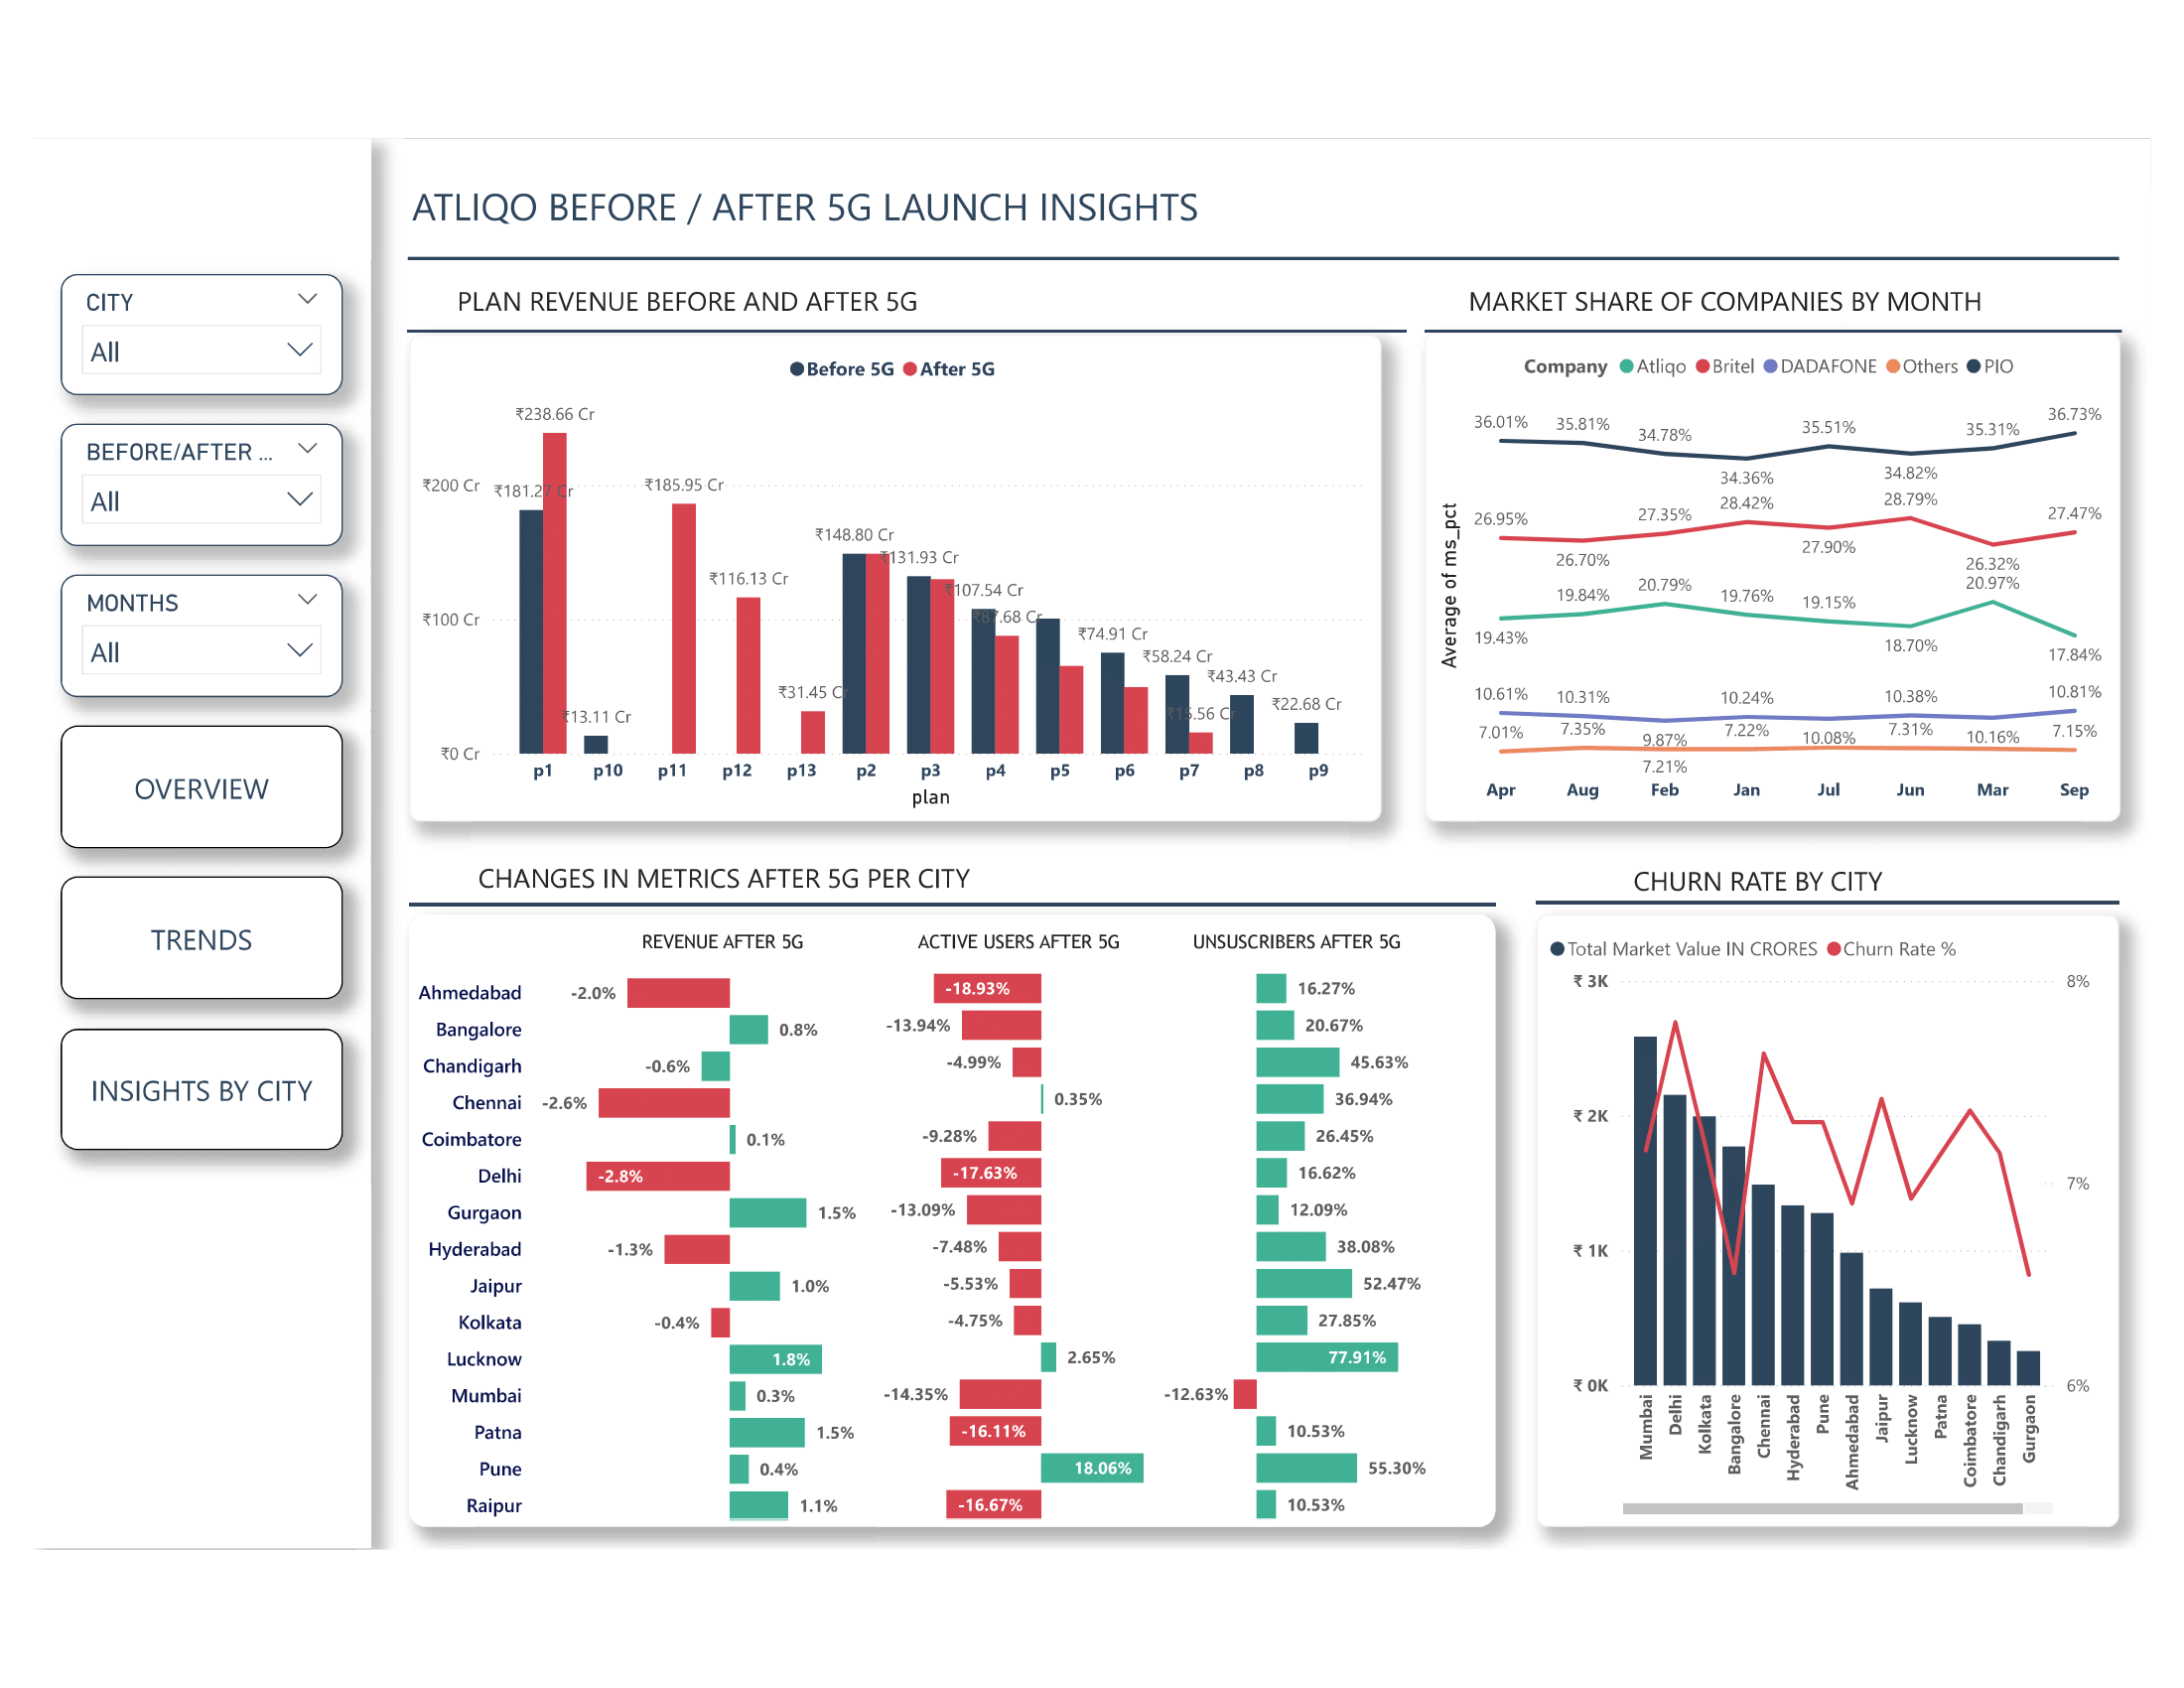

Layout of this report page (visuals, bound fields, positions):
{"tool":"powerbi","page":{"name":"OVERVIEW","canvas":[1500,1000],"ordinal":0},"visuals":[{"type":"shape","box":[0,0,238.8,998.8],"z":0},{"type":"areaChart","fields":{"Y":["Key Measures.Churn Rate %"],"Category":["dim_date.before/after_5g","dim_date.date.Variation.Date Hierarchy.Month"]},"box":[1056.2,640.3,421.4,344.1],"z":1000},{"type":"lineChart","fields":{"Category":["dim_date.time_period"],"Y":["Key Measures.Active Users Before 5G","Key Measures.Active Users After 5G"]},"box":[264.7,716.5,389.9,267.6],"z":2000},{"type":"lineChart","fields":{"Category":["dim_date.time_period"],"Y":["Key Measures.Atliqo MS% Before 5G","Key Measures.Atliqo MS % After 5G"]},"box":[662.4,428.7,371.7,277.9],"z":3000},{"type":"lineChart","fields":{"Category":["dim_date.time_period"],"Y":["Key Measures.ARPU Before 5G","Key Measures.ARPU After 5G"]},"box":[661.9,716.5,371.2,267.6],"z":4000},{"type":"textbox","box":[263.2,23.8,631.8,47.6],"z":5000},{"type":"shape","box":[264.9,73,1212.6,23.8],"z":6000},{"type":"shape","box":[265.3,410.4,758.8,35.4],"z":7000},{"type":"shape","box":[1055,409.2,426.7,35.8],"z":8000},{"type":"multiRowCard","fields":{"Values":["Key Measures.% Change in Unsubscribers"]},"box":[1052.9,453.8,241.4,93.9],"z":9000},{"type":"multiRowCard","fields":{"Values":["Key Measures.Churn Rate %"]},"box":[1310,453.8,171.2,93.8],"z":10000},{"type":"tableEx","fields":{"Values":["Key Measures.Prefix Active Users","Key Measures.% Change in Active Users","Key Measures.Suffix Active Users"]},"box":[264.9,95.1,686.1,113.8],"z":11000},{"type":"lineChart","fields":{"Y":["Key Measures.Revenue Before 5g","Key Measures.Revenue After 5G"],"Category":["dim_date.time_period"]},"box":[265,428.3,391.7,276.7],"z":12000},{"type":"tableEx","fields":{"Values":["Key Measures.Prefix Revenue","Key Measures.% Change in Revenue"]},"box":[974.9,95.1,506.1,113.8],"z":13000},{"type":"tableEx","fields":{"Values":["Key Measures.% Change in ARPU","Key Measures.Suffix ARPU"]},"box":[263.2,229.3,502.7,112.1],"z":14000},{"type":"tableEx","fields":{"Values":["Key Measures.Prefix Market Share","Key Measures.% Change in Atlico MS"]},"box":[791.4,229.3,689.5,112.1],"z":15000},{"type":"textbox","box":[264.9,387.2,711.6,37.4],"z":16000},{"type":"textbox","box":[1056.4,383.8,421.2,40.8],"z":17000},{"type":"image","box":[264.3,382.1,42.9,47.6],"z":19000},{"type":"image","box":[1054.7,382.6,50,45.3],"z":20000},{"type":"shape","box":[307.3,690,717.6,35],"z":21000},{"type":"shape","box":[640.3,467.4,42.3,500.5],"z":22000},{"type":"slicer","fields":{"Values":["dim_cities.city_name"]},"box":[18.9,95.7,200.6,86.5],"z":23000},{"type":"slicer","fields":{"Values":["dim_date.before/after_5g"]},"box":[18.9,202.5,200.6,86.5],"z":24000},{"type":"slicer","fields":{"Values":["dim_date.date.Variation.Date Hierarchy.Month"]},"box":[19,309.2,200.4,86.6],"z":25000},{"type":"shape","box":[19.3,416.1,199.7,86.9],"z":26000},{"type":"shape","box":[19.3,523.4,199.7,86.9],"z":27000},{"type":"shape","box":[19.3,630.6,199.7,86.9],"z":28000},{"type":"shape","box":[259.9,0,735.4,985.1],"z":29000},{"type":"shape","box":[266.6,429.7,1214.3,555.4],"z":30000}]}

Visuals, with their boxes on the page's 1500x1000 design canvas (x1, y1, x2, y2). These are canvas units, not pixel positions in the 2184x1688 screenshot, which may show the page scaled, cropped or inside an application window:
shape: [0, 0, 239, 999]
areaChart - Key Measures.Churn Rate % x dim_date.before/after_5g: [1056, 640, 1478, 984]
lineChart - dim_date.time_period x Key Measures.Active Users Before 5G: [265, 716, 655, 984]
lineChart - dim_date.time_period x Key Measures.Atliqo MS% Before 5G: [662, 429, 1034, 707]
lineChart - dim_date.time_period x Key Measures.ARPU Before 5G: [662, 716, 1033, 984]
textbox: [263, 24, 895, 71]
shape: [265, 73, 1478, 97]
shape: [265, 410, 1024, 446]
shape: [1055, 409, 1482, 445]
multiRowCard - Key Measures.% Change in Unsubscribers: [1053, 454, 1294, 548]
multiRowCard - Key Measures.Churn Rate %: [1310, 454, 1481, 548]
tableEx - Key Measures.Prefix Active Users x Key Measures.% Change in Active Users: [265, 95, 951, 209]
lineChart - Key Measures.Revenue Before 5g x Key Measures.Revenue After 5G: [265, 428, 657, 705]
tableEx - Key Measures.Prefix Revenue x Key Measures.% Change in Revenue: [975, 95, 1481, 209]
tableEx - Key Measures.% Change in ARPU x Key Measures.Suffix ARPU: [263, 229, 766, 341]
tableEx - Key Measures.Prefix Market Share x Key Measures.% Change in Atlico MS: [791, 229, 1481, 341]
textbox: [265, 387, 976, 425]
textbox: [1056, 384, 1478, 425]
image: [264, 382, 307, 430]
image: [1055, 383, 1105, 428]
shape: [307, 690, 1025, 725]
shape: [640, 467, 683, 968]
slicer - dim_cities.city_name: [19, 96, 220, 182]
slicer - dim_date.before/after_5g: [19, 202, 220, 289]
slicer - dim_date.date.Variation.Date Hierarchy.Month: [19, 309, 219, 396]
shape: [19, 416, 219, 503]
shape: [19, 523, 219, 610]
shape: [19, 631, 219, 718]
shape: [260, 0, 995, 985]
shape: [267, 430, 1481, 985]
